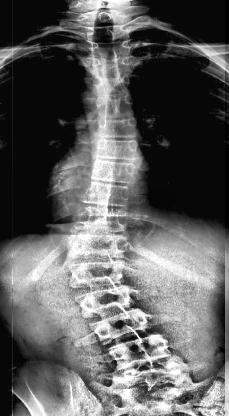Vertebrae: (119, 364, 193, 398), (66, 202, 132, 236), (107, 335, 175, 367), (65, 230, 129, 262), (91, 310, 154, 342), (74, 288, 138, 314), (67, 260, 126, 288), (80, 93, 140, 120), (86, 114, 140, 142), (81, 180, 135, 208), (88, 136, 140, 164), (88, 158, 138, 186), (84, 54, 134, 78), (78, 24, 134, 44), (80, 38, 136, 58), (86, 74, 134, 96), (76, 8, 130, 26)
